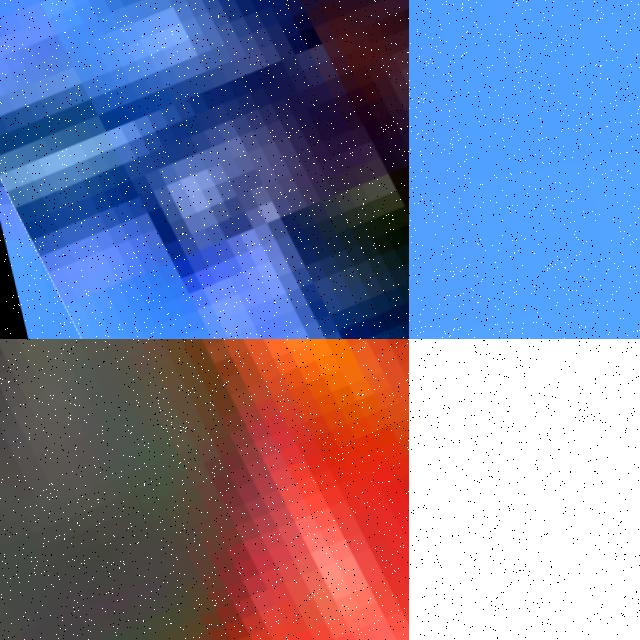0: (0, 0, 409, 339)
drone: (0, 339, 409, 640), (409, 339, 640, 640)
